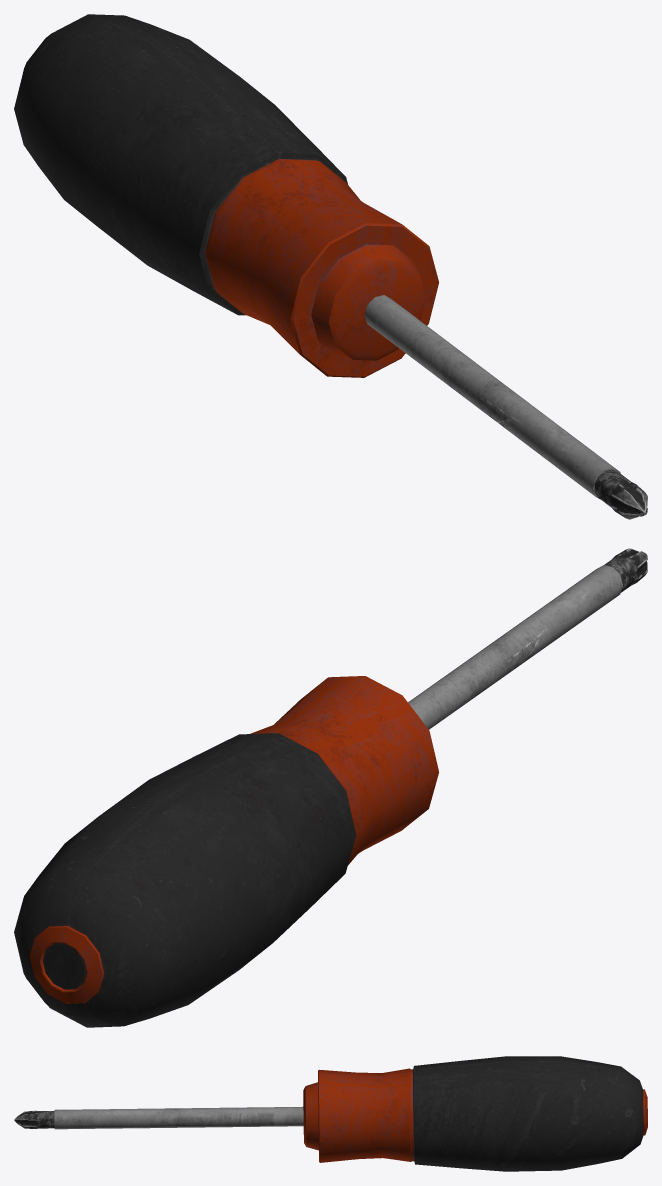
Rendered from Screwdriver.fbx.
3 views of the same model, one above another, from view 1: azimuth 30°, elevation 25°; view 2: azimuth 150°, elevation 25°; view 3: azimuth 270°, elevation 25° (orthographic). The views are drawn at different scales.
Parts seen in each view (by area): view 1: Screwdriver; view 2: Screwdriver; view 3: Screwdriver.
Boxes of the visible parts, box(x1,y1,x2,y2) form: Screwdriver: box(14, 14, 647, 519); Screwdriver: box(14, 548, 647, 1027); Screwdriver: box(14, 1056, 647, 1171).
Size of the model in its own units: 25.25 by 25.31 by 138.
